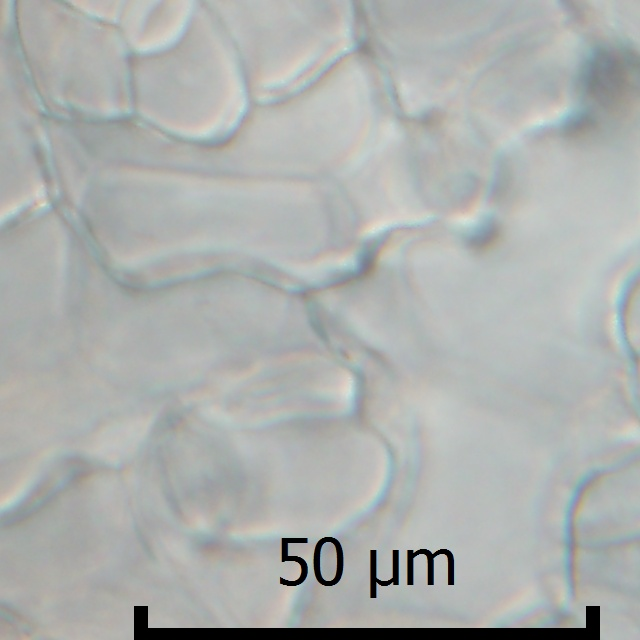center: (97, 24, 159, 32), (96, 13, 159, 19), (128, 24, 172, 32), (78, 10, 109, 14), (610, 318, 640, 322)
stomata-huw1: (59, 0, 197, 56), (102, 1, 198, 55), (58, 0, 197, 32), (59, 0, 128, 24), (622, 274, 639, 366)
